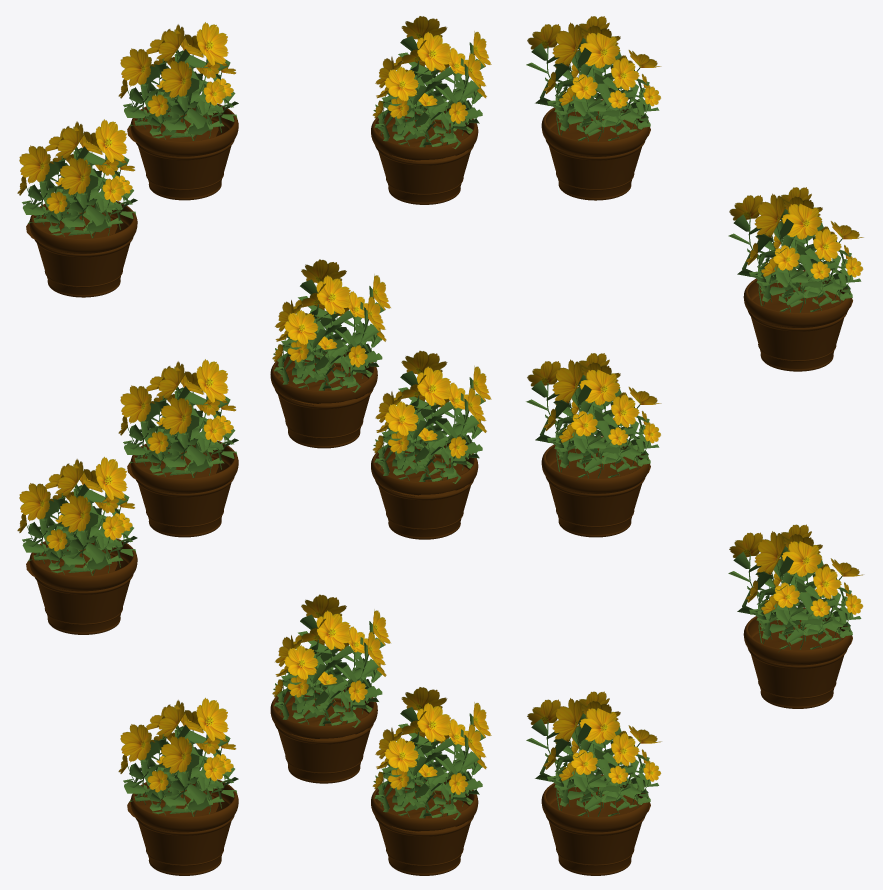
The model's file is Room2-SulfurCosmos.glb.
The picture shows the model from 3 angles, left to right: view 1: azimuth 30°, elevation 25°; view 2: azimuth 150°, elevation 25°; view 3: azimuth 270°, elevation 25°; orthographic projection.
Parts seen in each view (by area): view 1: Plant_Pot_Plant_Pot_M_0.048, Plant_Pot_Plant_Pot_M_0.047, Plant_Pot_Plant_Pot_M_0.046, Plant_Pot_Plant_Pot_M_0.050, Plant_Pot_Plant_Pot_M_0.045; view 2: Plant_Pot_Plant_Pot_M_0.046, Plant_Pot_Plant_Pot_M_0.047, Plant_Pot_Plant_Pot_M_0.045, Plant_Pot_Plant_Pot_M_0.050, Plant_Pot_Plant_Pot_M_0.048; view 3: Plant_Pot_Plant_Pot_M_0.048, Plant_Pot_Plant_Pot_M_0.046, Plant_Pot_Plant_Pot_M_0.047, Plant_Pot_Plant_Pot_M_0.045, Plant_Pot_Plant_Pot_M_0.050.
Part boxes in pixels (x1,y1,x2,y2): Plant_Pot_Plant_Pot_M_0.048: (118,22,238,200); Plant_Pot_Plant_Pot_M_0.047: (17,119,137,297); Plant_Pot_Plant_Pot_M_0.046: (118,359,238,537); Plant_Pot_Plant_Pot_M_0.050: (118,697,238,875); Plant_Pot_Plant_Pot_M_0.045: (17,456,137,634); Plant_Pot_Plant_Pot_M_0.046: (371,350,491,539); Plant_Pot_Plant_Pot_M_0.047: (270,259,390,448); Plant_Pot_Plant_Pot_M_0.045: (270,594,390,783); Plant_Pot_Plant_Pot_M_0.050: (371,687,491,875); Plant_Pot_Plant_Pot_M_0.048: (371,16,491,204); Plant_Pot_Plant_Pot_M_0.048: (526,16,661,200); Plant_Pot_Plant_Pot_M_0.046: (526,353,661,537); Plant_Pot_Plant_Pot_M_0.047: (728,187,863,371); Plant_Pot_Plant_Pot_M_0.045: (728,524,863,708); Plant_Pot_Plant_Pot_M_0.050: (526,691,661,875).
Size of the model in its own units: 2.67 by 19.03 by 7.07.
Materials: 3 (1 with a texture image).
